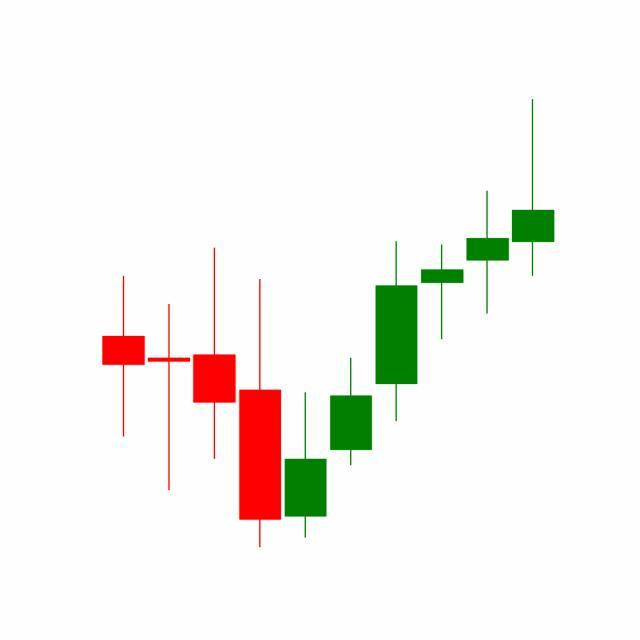Hikkake Pattern: (283, 188, 512, 543)
